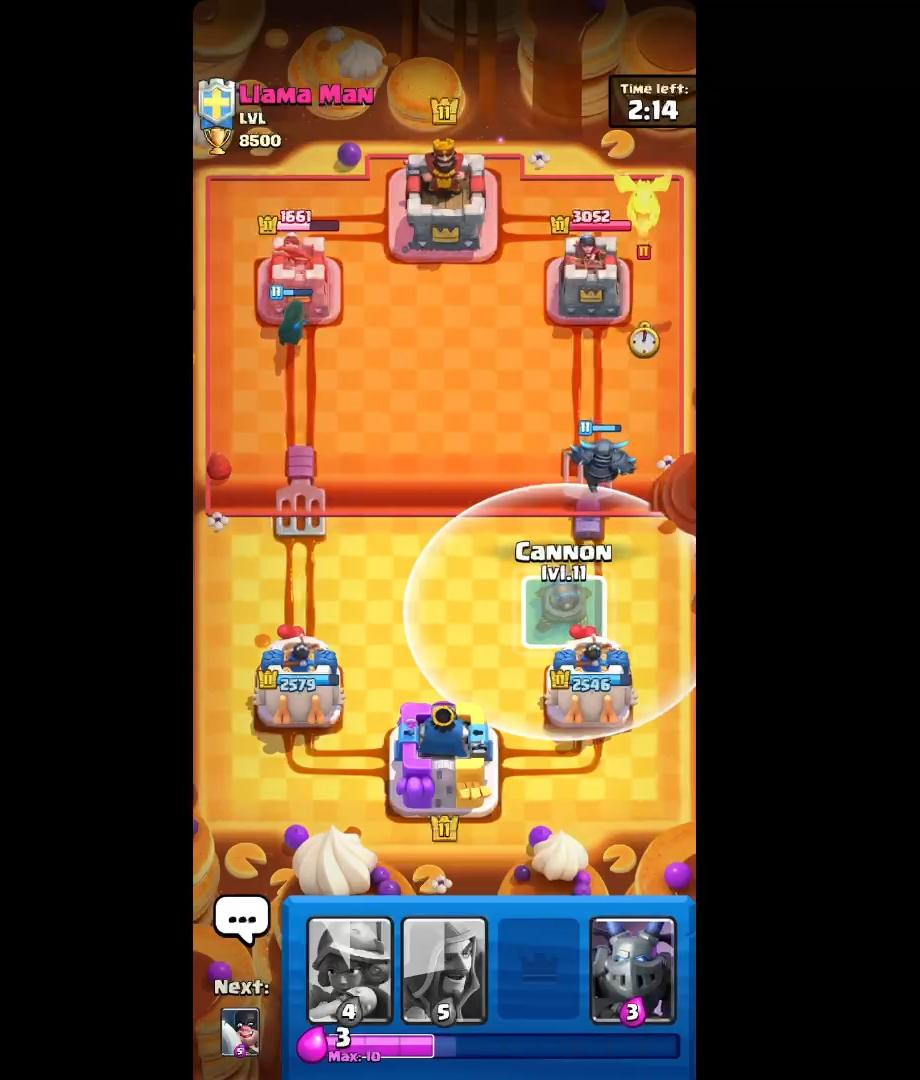Baby Dragon: (610, 166, 677, 266)
